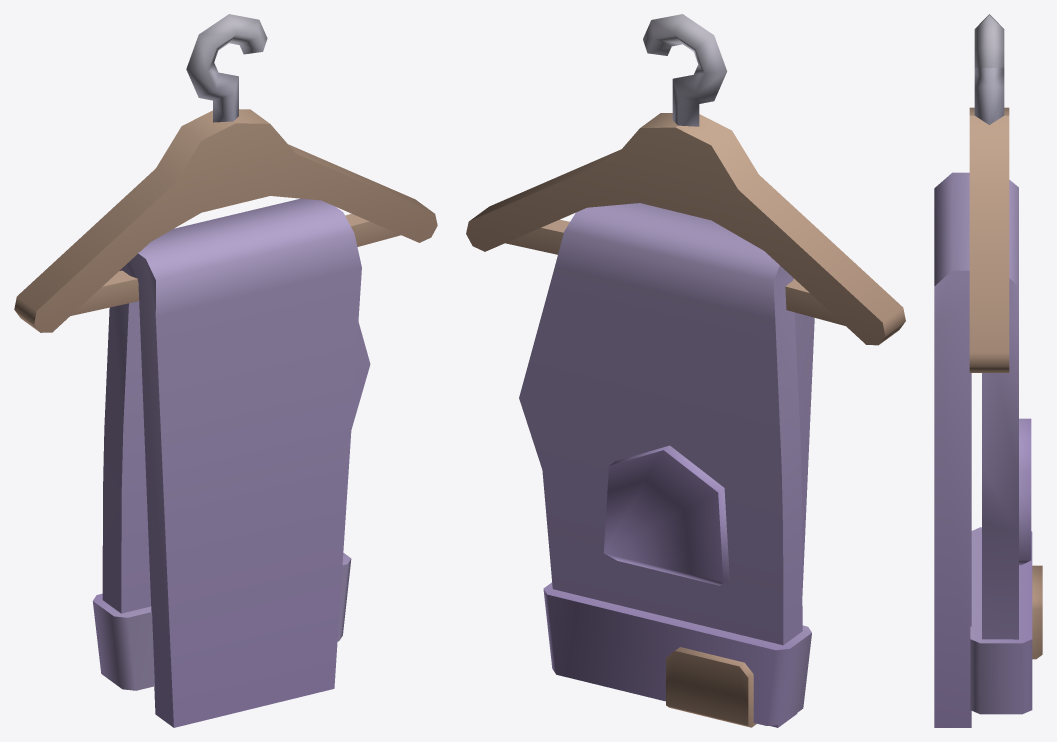
File: clothing-hanging-pants.glb
The picture shows the model from 3 angles, left to right: view 1: azimuth 30°, elevation 25°; view 2: azimuth 150°, elevation 25°; view 3: azimuth 270°, elevation 25°; orthographic projection. The views are drawn at different scales.
Visible parts, largest first — view 1: clothing-hanging-pants; view 2: clothing-hanging-pants; view 3: clothing-hanging-pants.
Part boxes in pixels (x1=…): clothing-hanging-pants: x1=14, y1=14, x2=437, y2=727; clothing-hanging-pants: x1=466, y1=14, x2=905, y2=727; clothing-hanging-pants: x1=934, y1=14, x2=1042, y2=727.
Size of the model in its own units: 0.4691 by 0.7482 by 0.1088.
